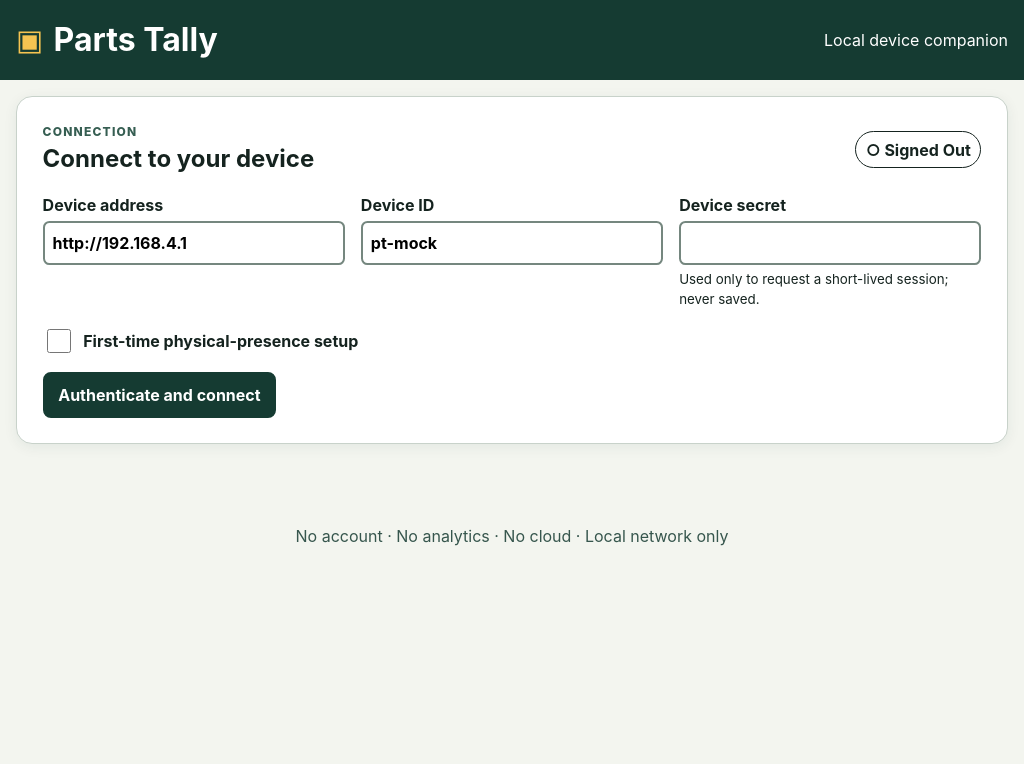
Test: has no automated axe violations before and after authentication
Type "device-secret-123456" into the password field labelled "Device secret".
click(830, 243); type("device-secret-123456")  # box 679,221 -> 981,265
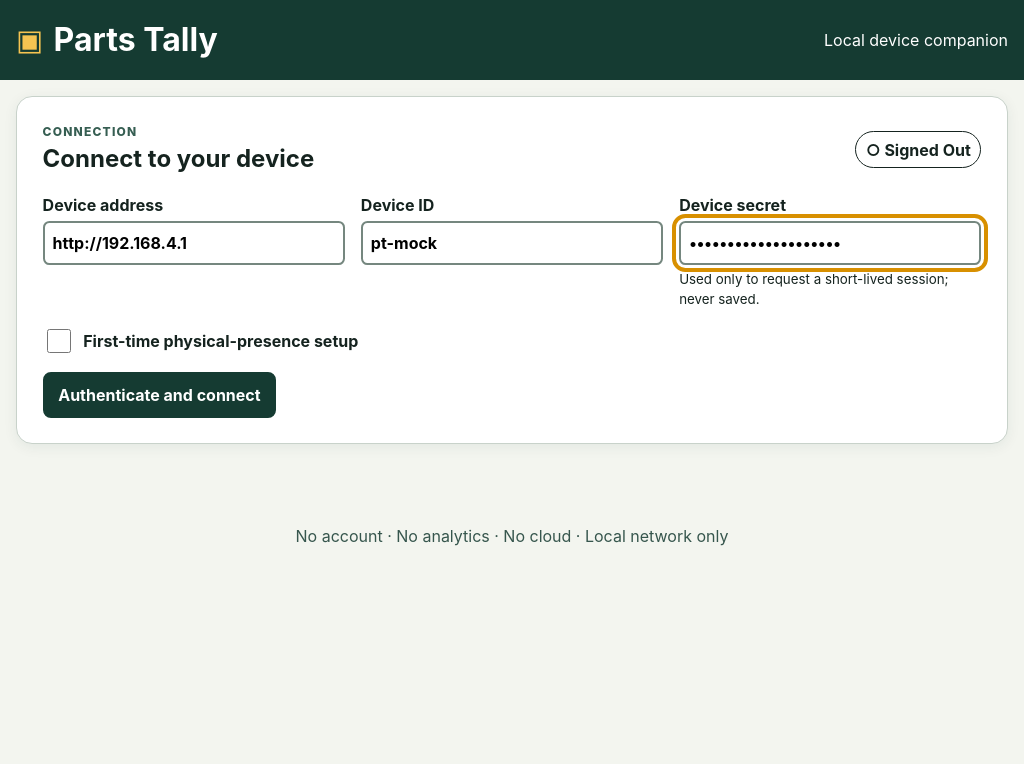
Click the button "Authenticate and connect".
click(159, 395)  # box 43,372 -> 276,418
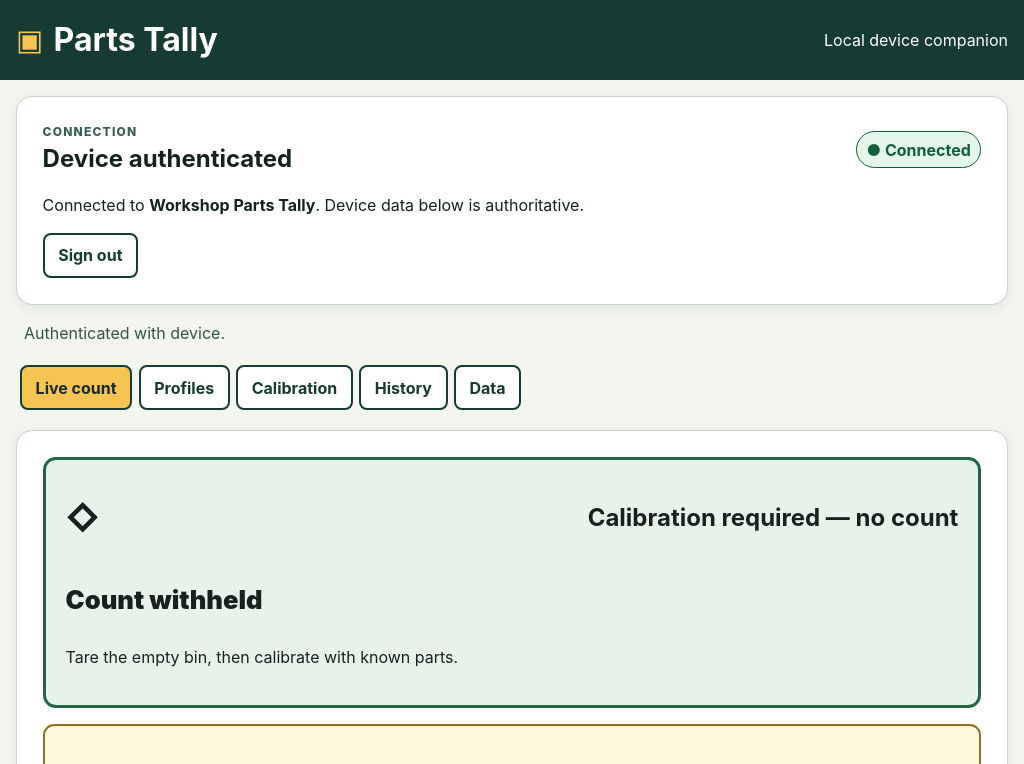
Result: the text "Authenticated with device." is shown at 24,323 -> 225,343
